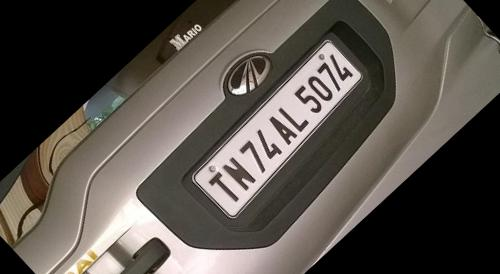plate: (183, 32, 380, 221)
